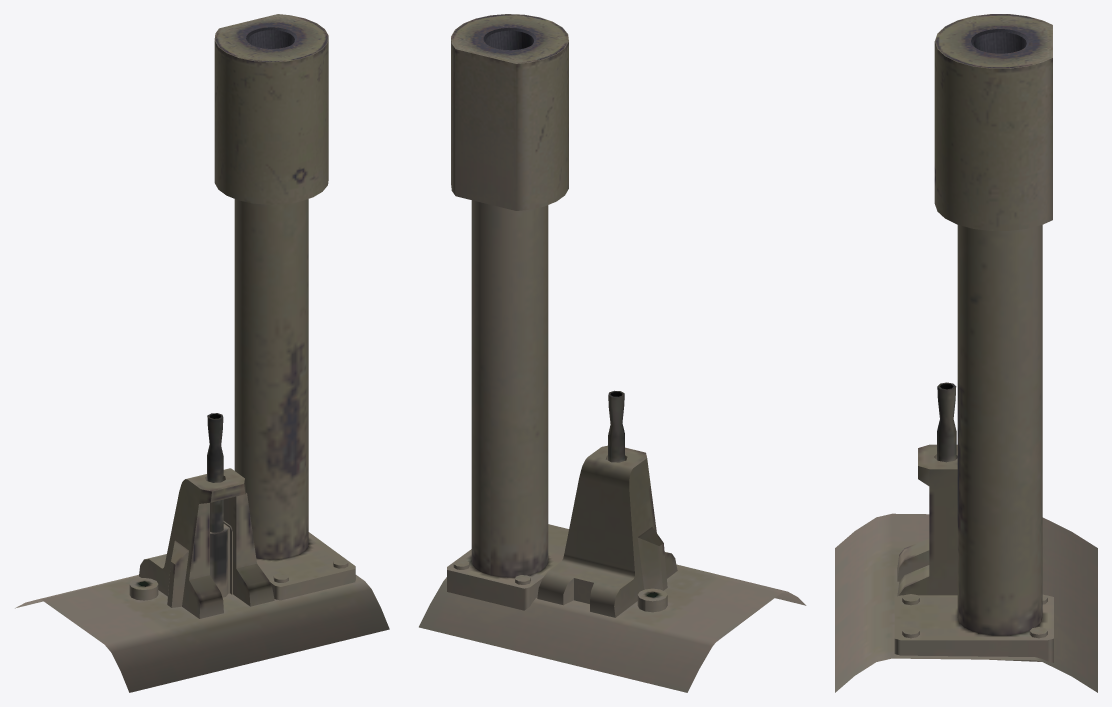
File: Gun_06.glb
3 renders of one model, left to right at view 1: azimuth 30°, elevation 25°; view 2: azimuth 150°, elevation 25°; view 3: azimuth 270°, elevation 25°, orthographic. The views are drawn at different scales.
Parts seen in each view (by area): view 1: set_0_group_0; view 2: set_0_group_0; view 3: set_0_group_0.
Boxes of the visible parts, x1=… form: set_0_group_0: x1=15, y1=14, x2=389, y2=692; set_0_group_0: x1=419, y1=14, x2=806, y2=692; set_0_group_0: x1=835, y1=14, x2=1097, y2=692.
Bounding box in the file's own units: 0.6197 × 1.23 × 0.4689.
Materials: 1 (1 with a texture image).
